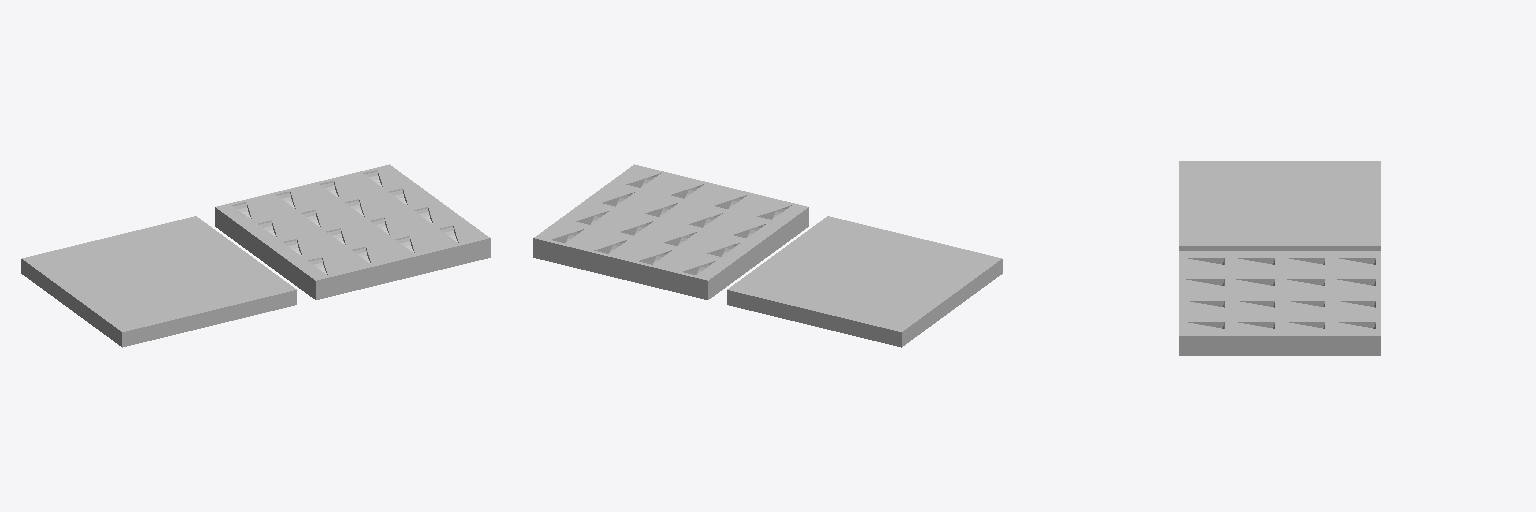
The model's file is v1_array4x4.obj.
The picture shows the model from 3 angles: view 1: azimuth 30°, elevation 25°; view 2: azimuth 150°, elevation 25°; view 3: azimuth 270°, elevation 25°; orthographic projection.
Visible parts, largest first — view 1: Cube, Cube.001_Cube.002; view 2: Cube, Cube.001_Cube.002; view 3: Cube, Cube.001_Cube.002.
Part boxes in pixels (left/top/right/bottom): Cube: left=215, top=164, right=490, bottom=299; Cube.001_Cube.002: left=21, top=216, right=296, bottom=347; Cube: left=533, top=164, right=808, bottom=299; Cube.001_Cube.002: left=727, top=216, right=1002, bottom=347; Cube: left=1179, top=251, right=1380, bottom=355; Cube.001_Cube.002: left=1179, top=161, right=1380, bottom=250.
Bounding box in the file's own units: 88.5 × 4.5 × 42.